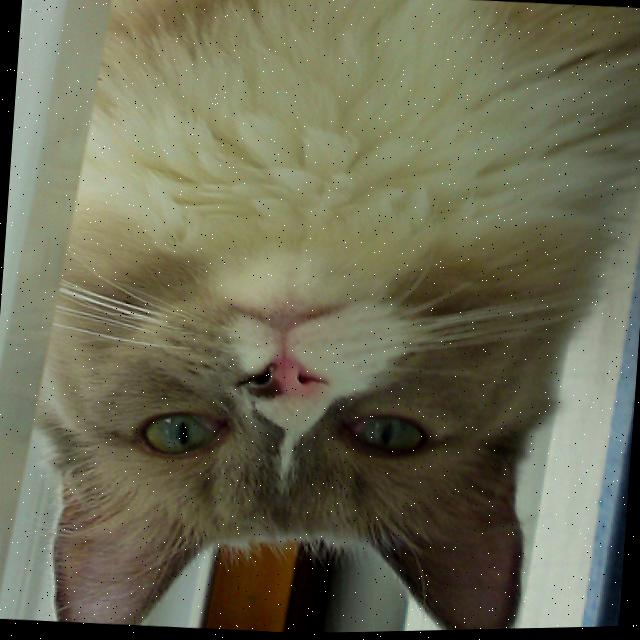Ragdoll: (20, 0, 640, 640)
